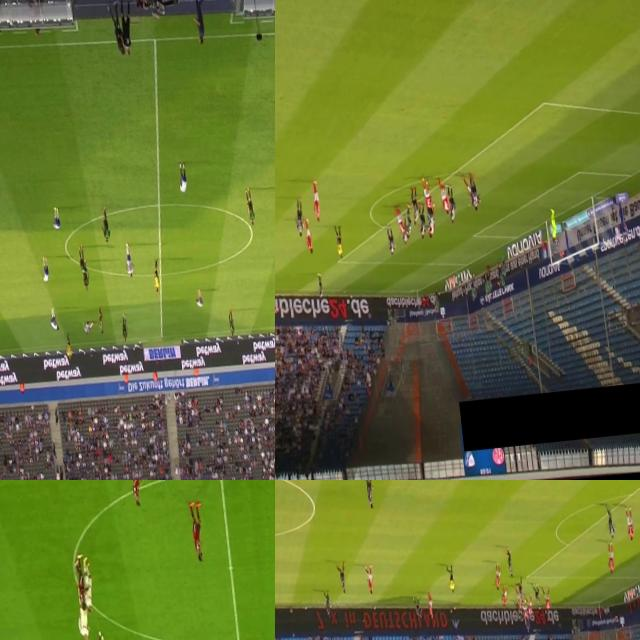player: (188, 496, 208, 564), (79, 552, 96, 613), (73, 560, 87, 616), (124, 480, 147, 508), (76, 595, 89, 640), (464, 176, 481, 208), (293, 200, 307, 238), (468, 175, 482, 212), (546, 205, 560, 242), (408, 186, 421, 224), (445, 184, 457, 225), (361, 480, 376, 510), (122, 242, 135, 276), (303, 218, 314, 258), (176, 161, 188, 196), (439, 178, 451, 213), (401, 207, 415, 236), (624, 508, 636, 541), (605, 503, 615, 541), (38, 257, 51, 286), (244, 190, 254, 226), (100, 210, 110, 245), (424, 203, 436, 232), (312, 183, 321, 221), (422, 178, 432, 212), (426, 206, 436, 240), (416, 210, 428, 237), (80, 318, 97, 337), (606, 542, 616, 574), (120, 312, 130, 343), (386, 228, 396, 258), (366, 565, 376, 595), (49, 309, 60, 336), (492, 565, 503, 591), (412, 594, 422, 622), (338, 564, 347, 594), (324, 591, 334, 618), (504, 548, 513, 578), (542, 586, 552, 612), (499, 585, 510, 608), (524, 592, 534, 617), (193, 288, 206, 307), (227, 312, 236, 338), (81, 264, 90, 290), (426, 591, 434, 620), (532, 584, 542, 607), (49, 210, 60, 230), (97, 312, 105, 336), (396, 208, 404, 232), (516, 577, 524, 601), (78, 254, 88, 273), (400, 220, 408, 243), (514, 600, 522, 622), (317, 278, 324, 302), (522, 599, 530, 620)
